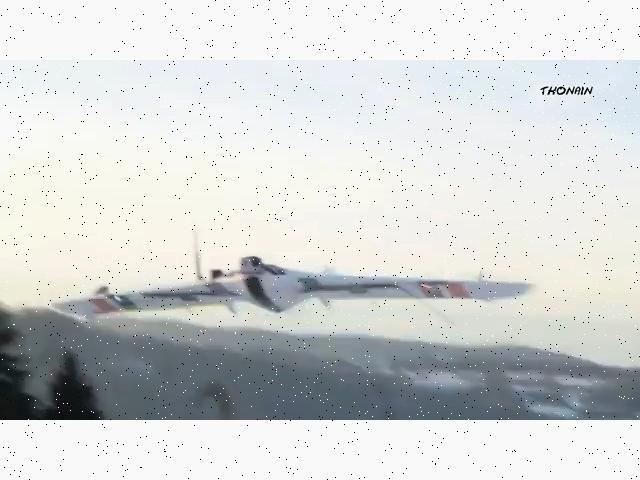Anti-Drone: (52, 256, 534, 318)
